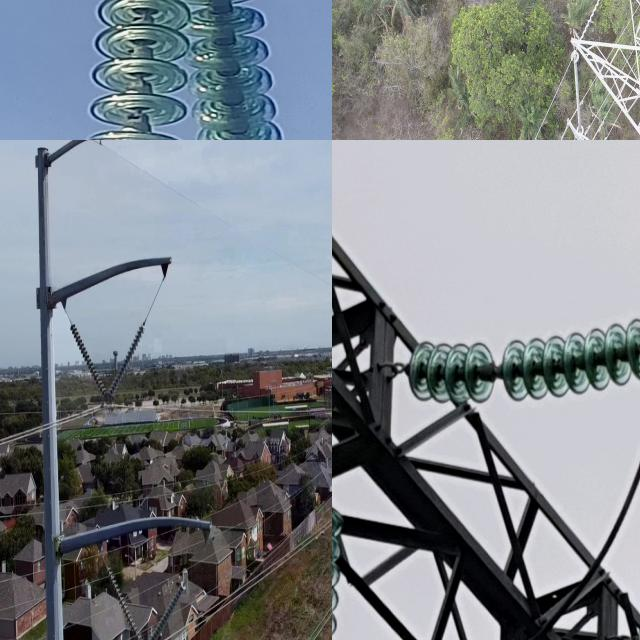杆塔: (556, 0, 640, 140)
正常绝缘子: (387, 306, 640, 410), (165, 0, 286, 140), (87, 0, 203, 140), (101, 318, 147, 404), (68, 319, 111, 405), (105, 563, 146, 640), (145, 576, 189, 640), (570, 50, 585, 136)
绝缘子破损: (487, 361, 500, 382)
